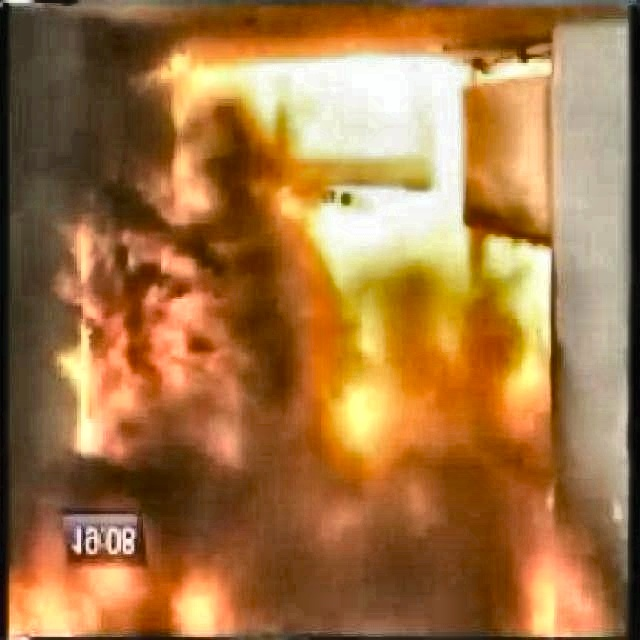fire: (13, 32, 551, 631)
